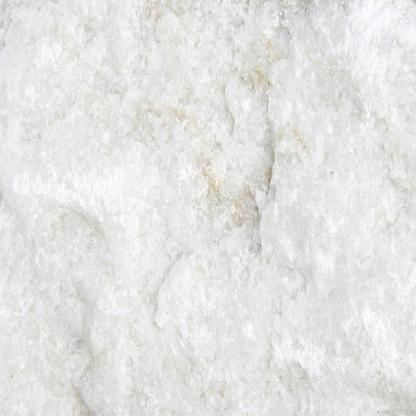Metamorphic_Marble: (1, 4, 412, 415)
